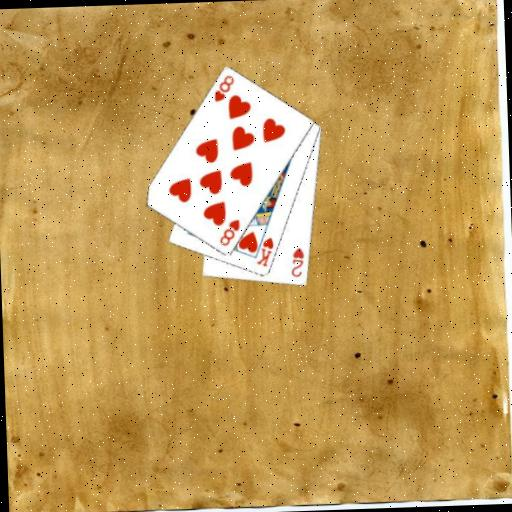2H: (287, 244, 306, 279)
8H: (216, 217, 242, 248), (210, 72, 236, 103)
KH: (253, 233, 276, 268)
